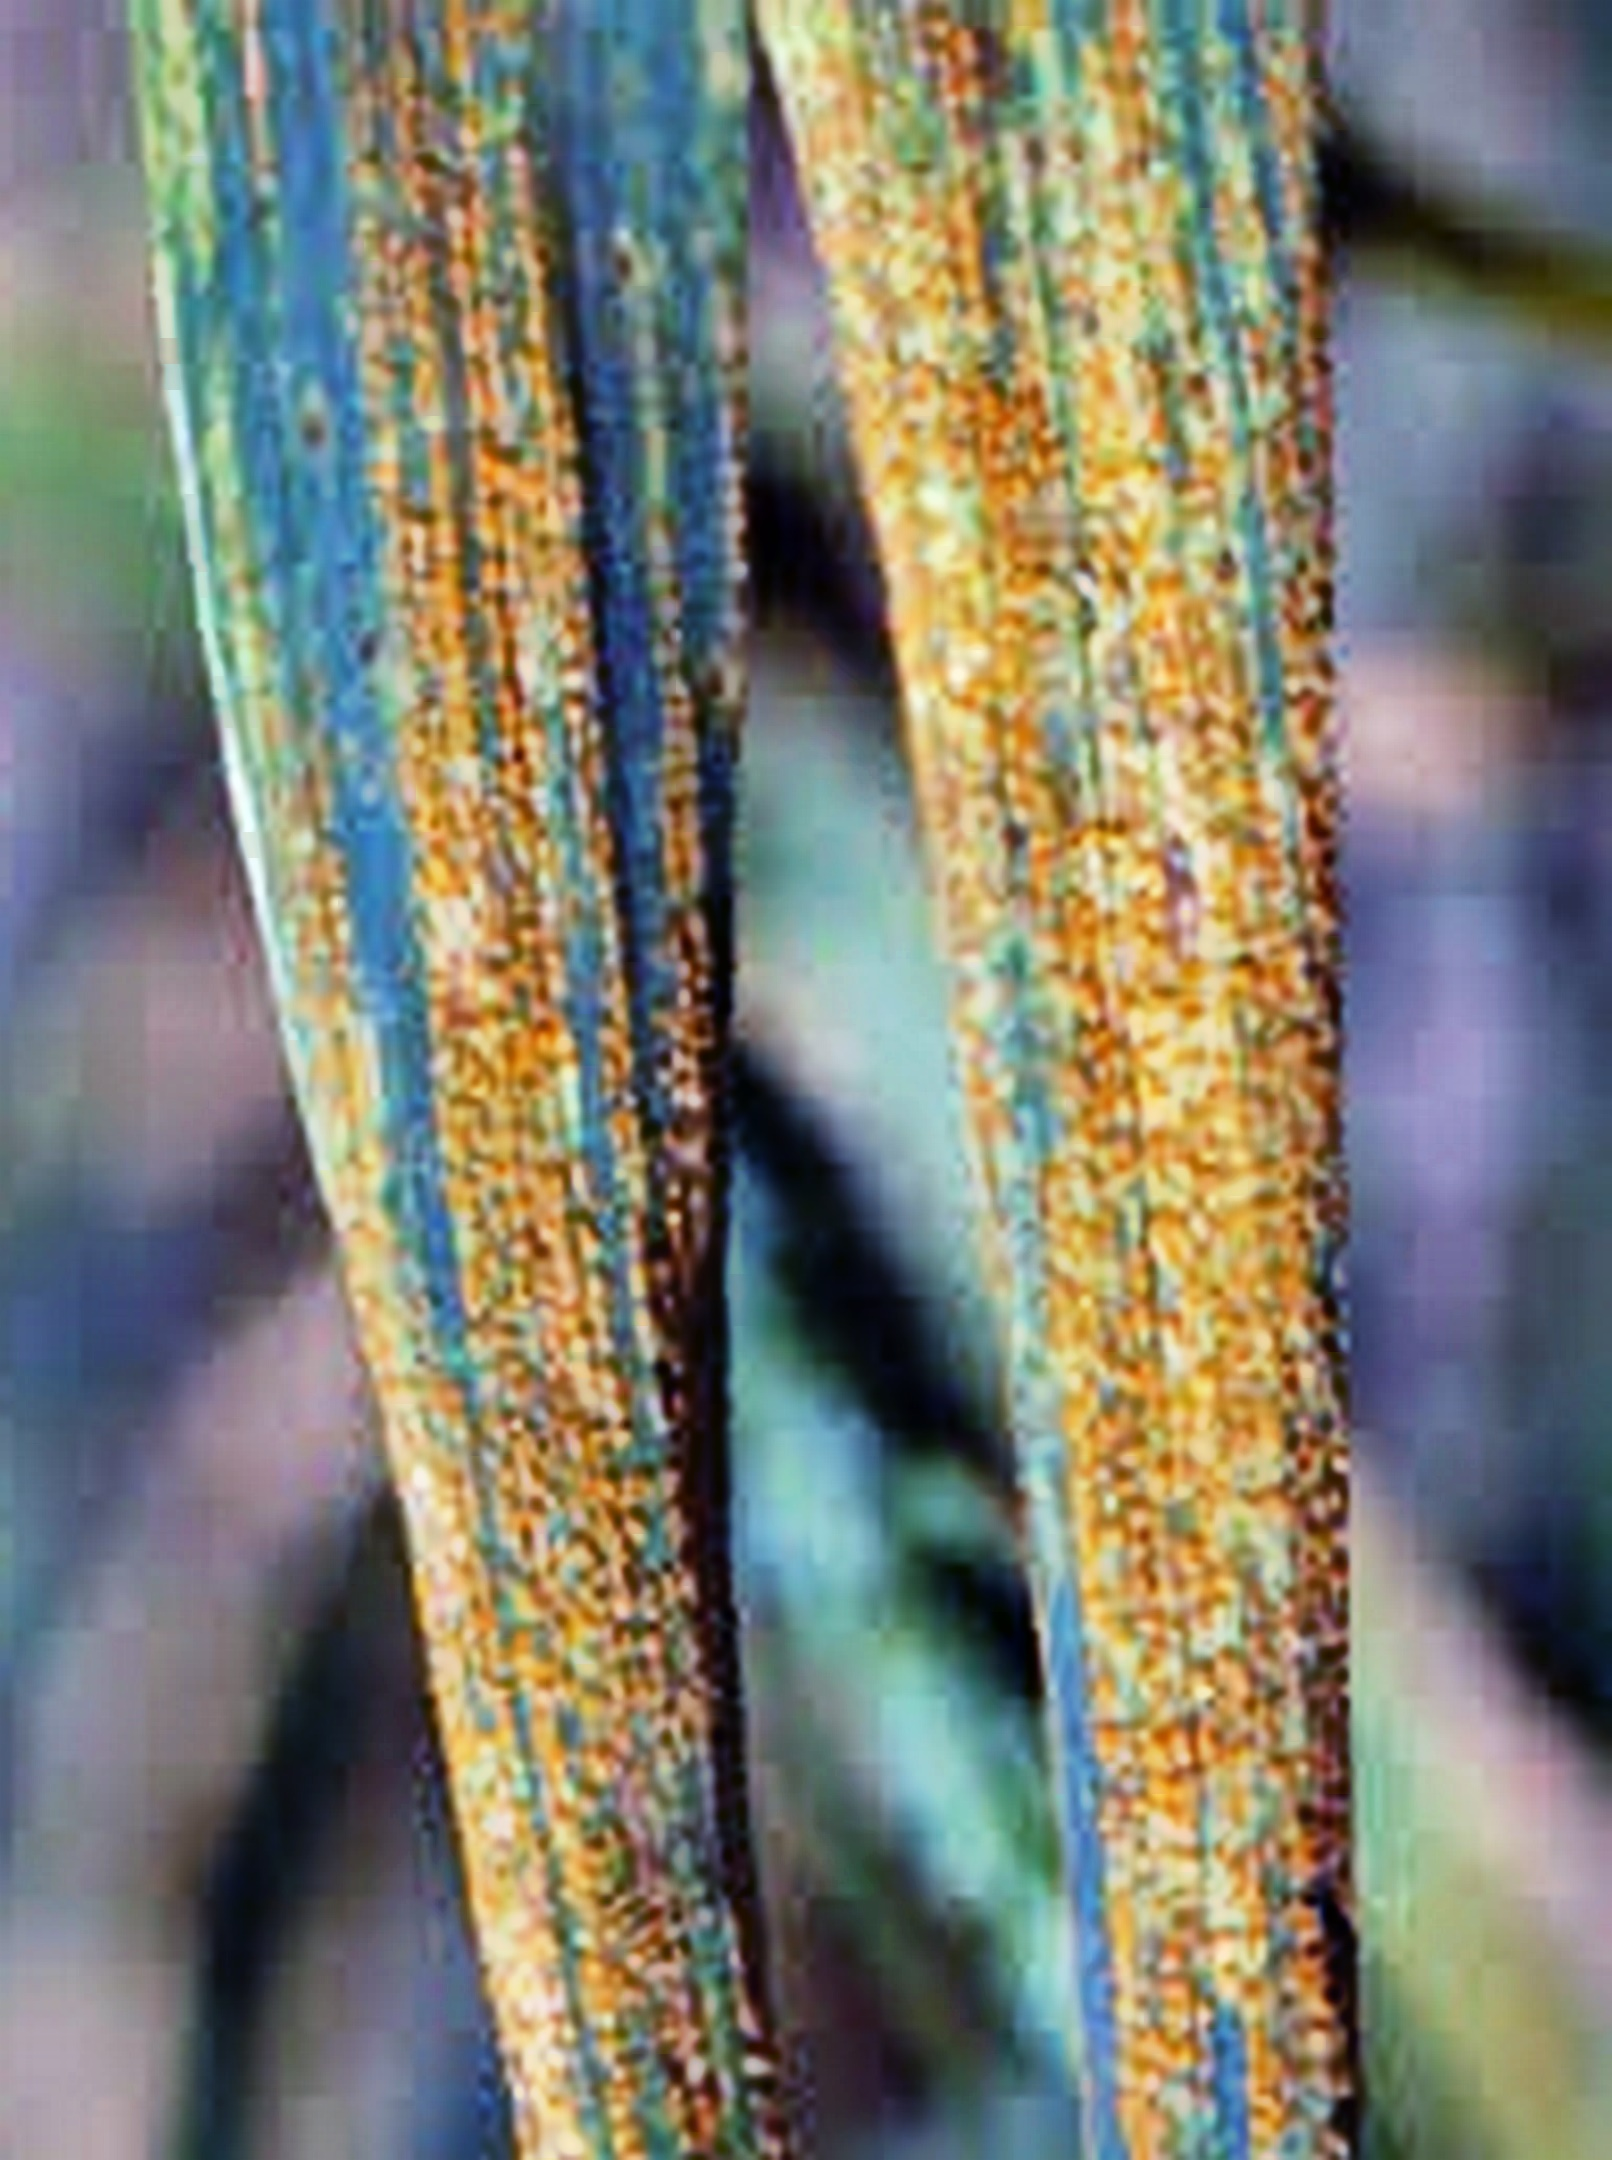Leaf Rust: (164, 462, 830, 2118)
